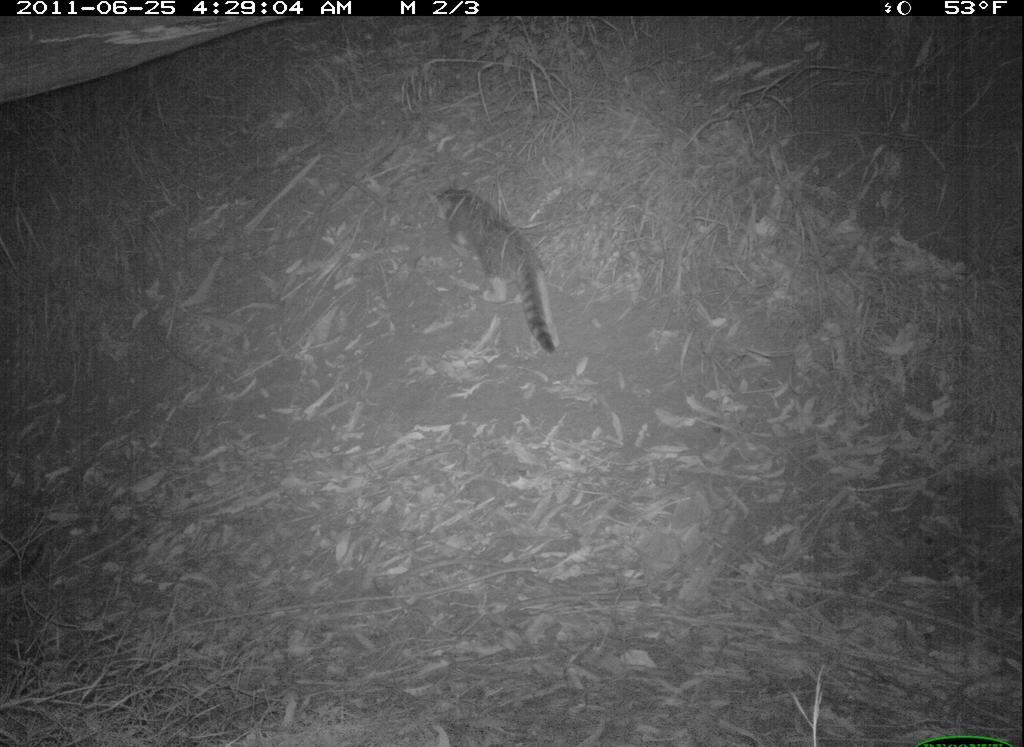cat: (420, 166, 566, 361)
